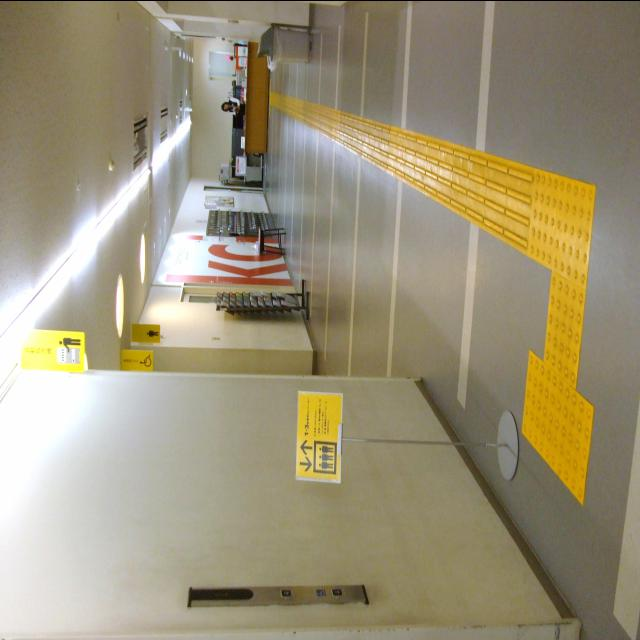tactile-guide-path: (267, 86, 535, 252), (521, 166, 593, 502)
